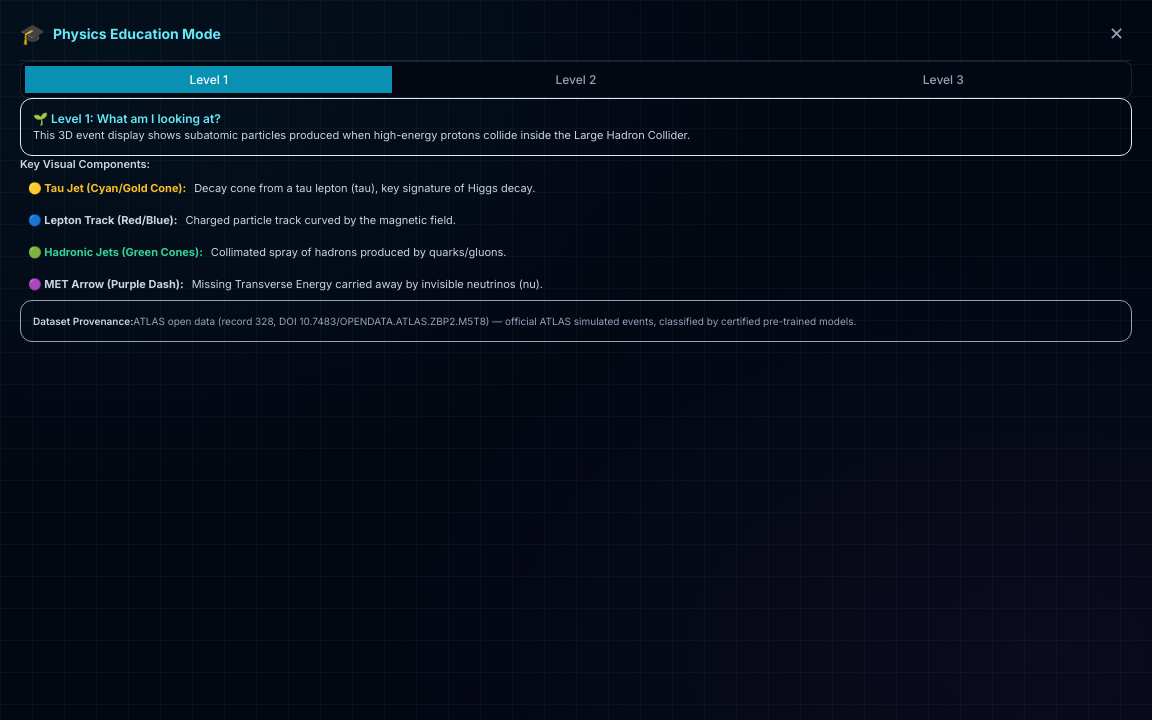
Test: EducationMode Component › switches to Level 2 Intermediate and displays verbatim honesty note
Click the button "Level 2" at (576, 80), box [392, 66, 760, 93]
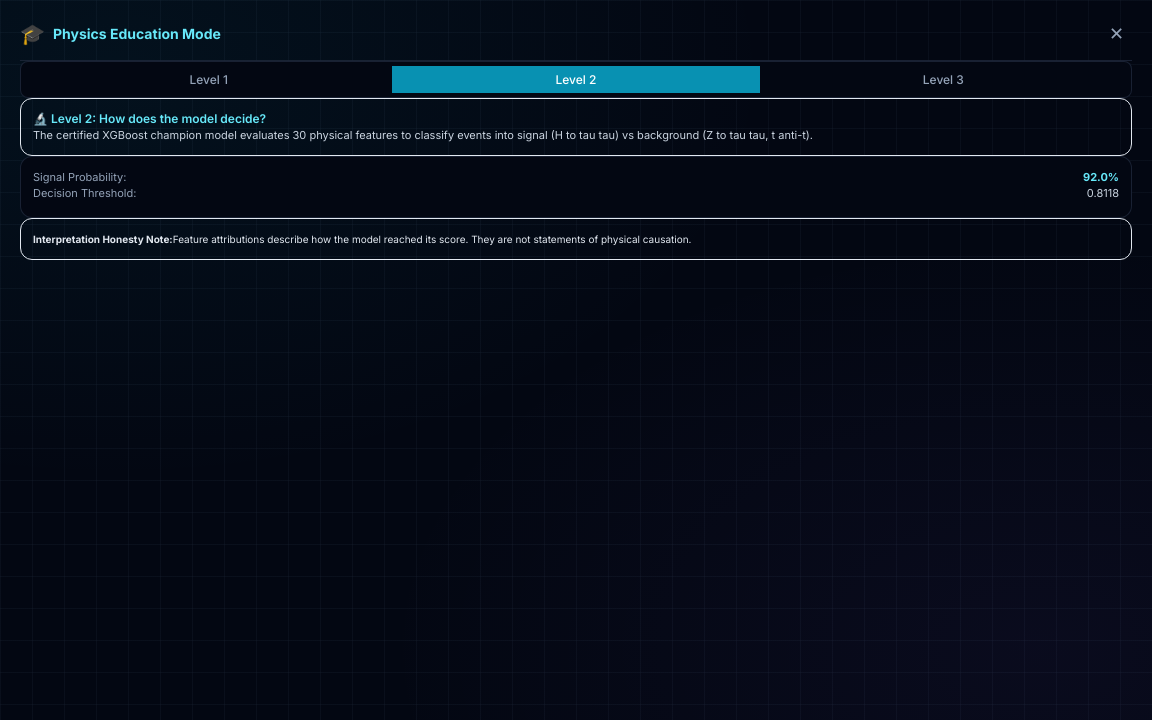
Expected: the heading "🔬 Level 2: How does the model decide?" is shown, [33, 111, 266, 126]
Expected: the text "Feature attributions describe how the model reached its score. They are not statements of physical causation." is shown, [173, 233, 692, 245]
